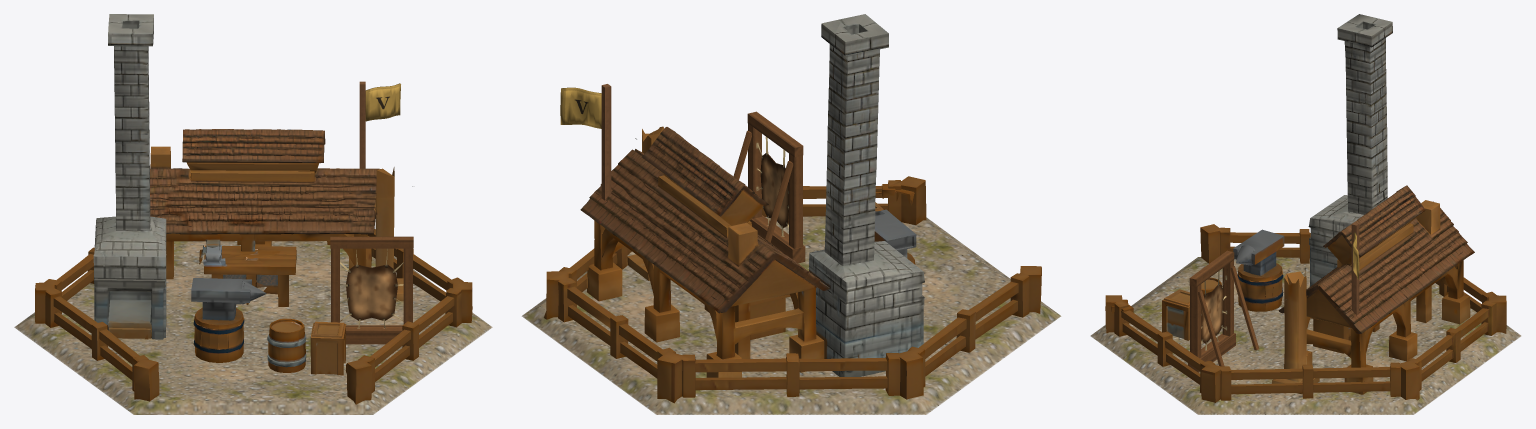
File: workshop-5.glb
3 renders of one model, left to right at view 1: azimuth 30°, elevation 25°; view 2: azimuth 150°, elevation 25°; view 3: azimuth 270°, elevation 25°, orthographic. The views are drawn at different scales.
Parts seen in each view (by area): view 1: architecture, ground, tier-banner; view 2: architecture, ground, tier-banner; view 3: architecture, ground.
Boxes of the visible parts, bbox=[...] form: architecture: bbox=[35, 14, 472, 404]; ground: bbox=[14, 241, 492, 414]; tier-banner: bbox=[365, 83, 400, 121]; architecture: bbox=[544, 14, 1041, 403]; ground: bbox=[521, 216, 1061, 414]; tier-banner: bbox=[560, 87, 601, 128]; architecture: bbox=[1105, 14, 1506, 402]; ground: bbox=[1090, 257, 1521, 414].
Bounding box in the file's own units: 1.59 × 1.28 × 1.84.
3 materials, 3 textured.
